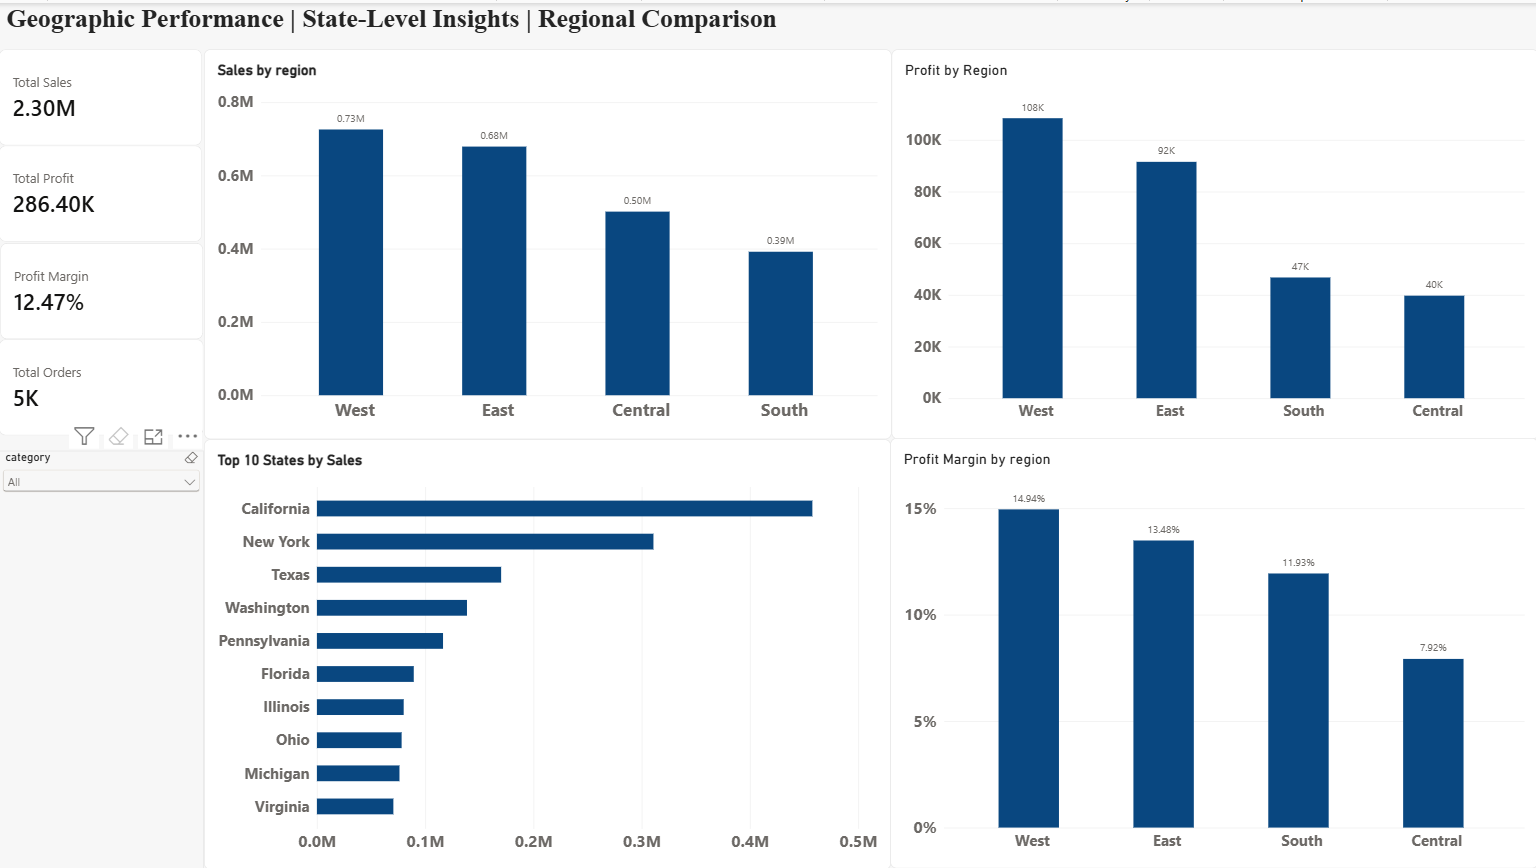

This screenshot's page, from the dashboard's own definition file:
{"tool":"powerbi","page":{"name":"Page 3","canvas":[1920,1080],"ordinal":2},"visuals":[{"type":"textbox","box":[9.4,0,1911.2,57.7],"z":0},{"type":"cardVisual","fields":{"Data":["superstore_cleaned.Total Profit"]},"box":[0,178.3,254,120.7],"z":1},{"type":"cardVisual","fields":{"Data":["superstore_cleaned.Total Sales"]},"box":[0,57.6,254,120.7],"z":2},{"type":"cardVisual","fields":{"Data":["superstore_cleaned.Profit Margin"]},"box":[1.8,299,254,120.7],"z":3},{"type":"cardVisual","fields":{"Data":["superstore_cleaned.Total Orders"]},"box":[0,419.7,255.8,120.7],"z":4},{"type":"clusteredColumnChart","title":"Sales by region","fields":{"Category":["superstore_cleaned.region"],"Y":["superstore_cleaned.Total Sales"]},"box":[255.8,57.6,857.3,486.3],"z":5},{"type":"clusteredColumnChart","title":"Profit by Region","fields":{"Category":["superstore_cleaned.region"],"Y":["superstore_cleaned.Total Profit"]},"box":[1113,58,807,486],"z":6},{"type":"clusteredBarChart","title":"Top 10 States by Sales","fields":{"Category":["superstore_cleaned.state"],"Y":["superstore_cleaned.Total Sales"]},"box":[255,543.4,857,537],"z":7},{"type":"clusteredColumnChart","title":"Profit Margin by region","fields":{"Category":["superstore_cleaned.region"],"Y":["superstore_cleaned.Profit Margin"]},"box":[1111.8,543.1,808.2,536.7],"z":8},{"type":"slicer","fields":{"Values":["superstore_cleaned.category"]},"box":[0,558.3,255.8,522.3],"z":9}]}

Visuals, with their boxes in screenshot pixels (x1, y1, x2, y2), scaled from the page's 1920x1080 canvas onto the 1536x868 screenshot:
textbox: [x1=8, y1=0, x2=1535, y2=46]
cardVisual - superstore_cleaned.Total Profit: [x1=0, y1=143, x2=203, y2=240]
cardVisual - superstore_cleaned.Total Sales: [x1=0, y1=46, x2=203, y2=143]
cardVisual - superstore_cleaned.Profit Margin: [x1=1, y1=240, x2=205, y2=337]
cardVisual - superstore_cleaned.Total Orders: [x1=0, y1=337, x2=205, y2=434]
"Sales by region" clusteredColumnChart: [x1=205, y1=46, x2=890, y2=437]
"Profit by Region" clusteredColumnChart: [x1=890, y1=47, x2=1535, y2=437]
"Top 10 States by Sales" clusteredBarChart: [x1=204, y1=437, x2=890, y2=867]
"Profit Margin by region" clusteredColumnChart: [x1=889, y1=436, x2=1535, y2=867]
slicer - superstore_cleaned.category: [x1=0, y1=449, x2=205, y2=867]
